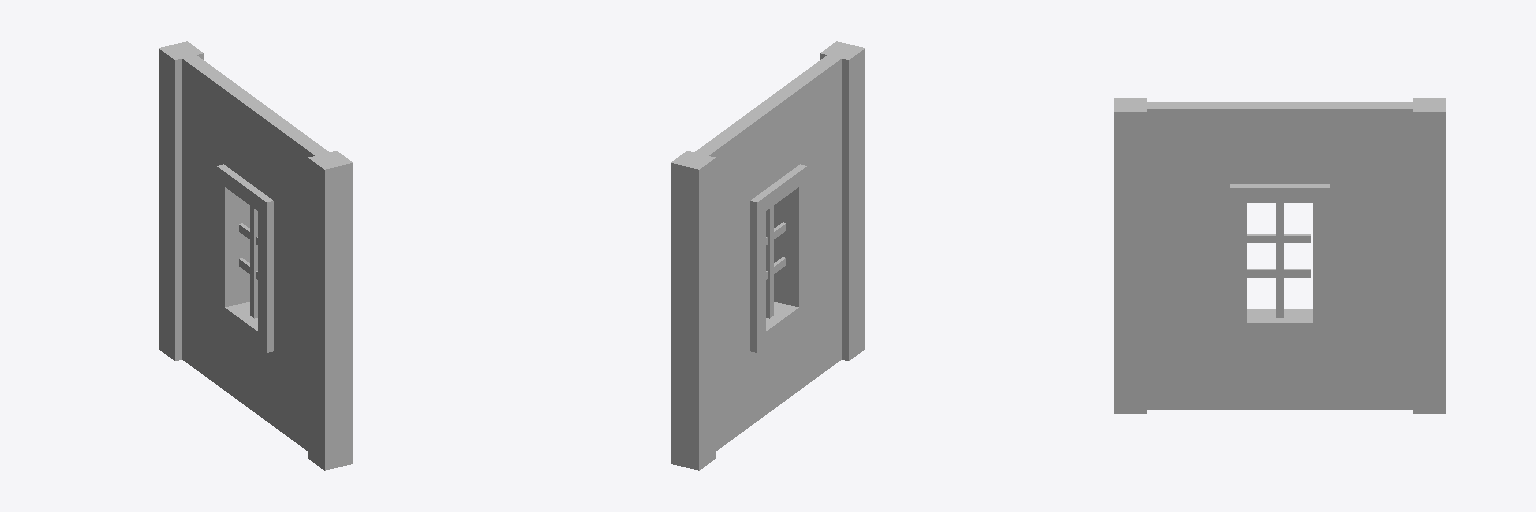
The model's file is wallWindowGlass.obj.
3 renders of one model, left to right at view 1: azimuth 30°, elevation 25°; view 2: azimuth 150°, elevation 25°; view 3: azimuth 270°, elevation 25°, orthographic.
Parts seen in each view (by area): view 1: wallWindowGlass, detail; view 2: wallWindowGlass, detail; view 3: wallWindowGlass, detail.
Part boxes in pixels (x1,y1,x2,y2): wallWindowGlass: (159, 41, 352, 470); detail: (239, 206, 257, 318); wallWindowGlass: (671, 41, 864, 470); detail: (766, 206, 785, 318); wallWindowGlass: (1114, 98, 1445, 413); detail: (1247, 203, 1310, 317).
Bounding box in the file's own units: 0.1 × 1 × 1.